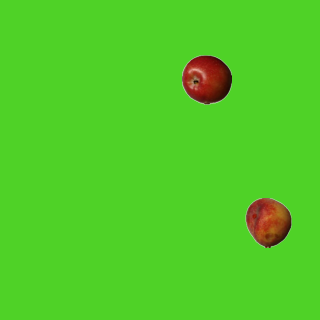Apple Braeburn: (181, 54, 231, 104)
Peach: (243, 197, 293, 247)
